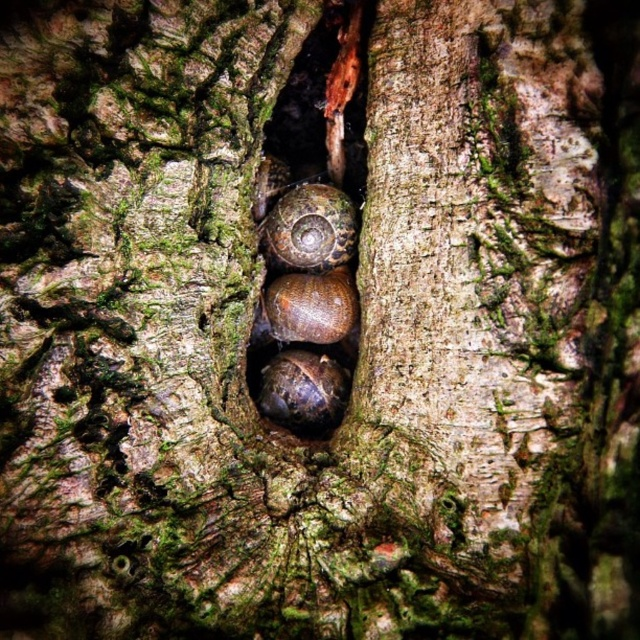Snail: (259, 177, 361, 276), (255, 349, 359, 439), (262, 268, 362, 343)
